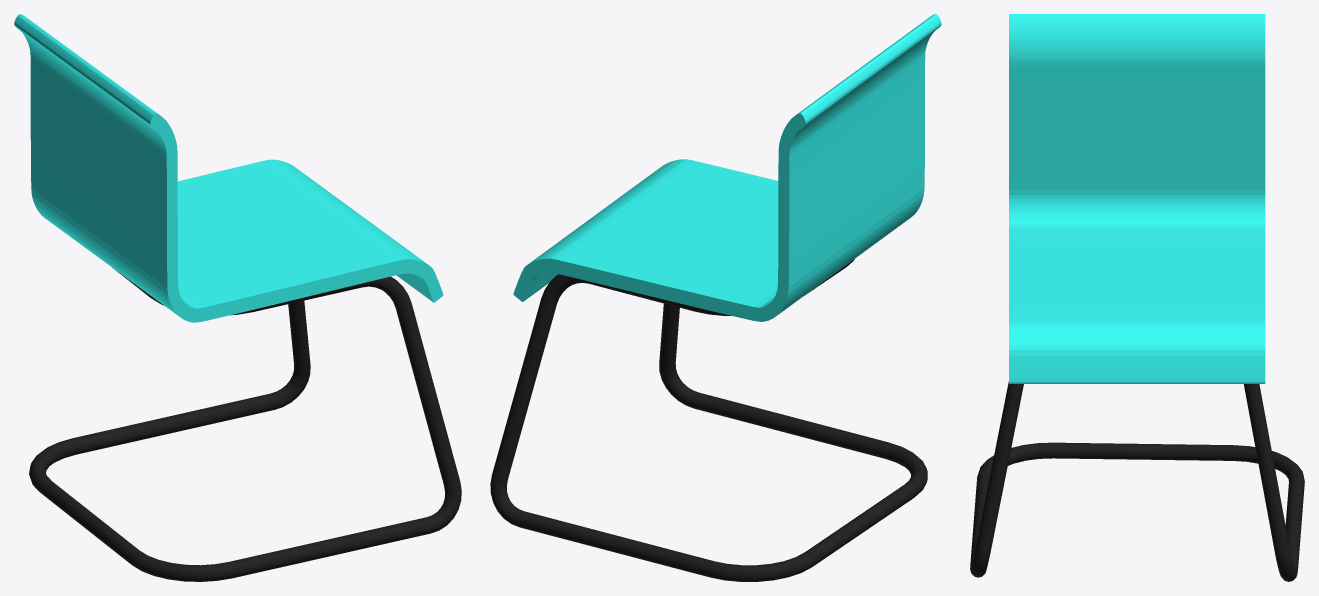
The model's file is kursi2biru.glb.
3 renders of one model, left to right at view 1: azimuth 30°, elevation 25°; view 2: azimuth 150°, elevation 25°; view 3: azimuth 270°, elevation 25°, orthographic. The views are drawn at different scales.
Parts seen in each view (by area): view 1: Plane, Cube; view 2: Plane, Cube; view 3: Plane, Cube.
Boxes of the visible parts, left/top/right/bottom form: Plane: left=14, top=14, right=443, bottom=322; Cube: left=29, top=267, right=461, bottom=581; Plane: left=513, top=14, right=941, bottom=321; Cube: left=490, top=259, right=927, bottom=581; Plane: left=1009, top=14, right=1265, bottom=383; Cube: left=970, top=381, right=1304, bottom=581.
Size of the model in its own units: 0.564 by 0.8302 by 0.5698.
